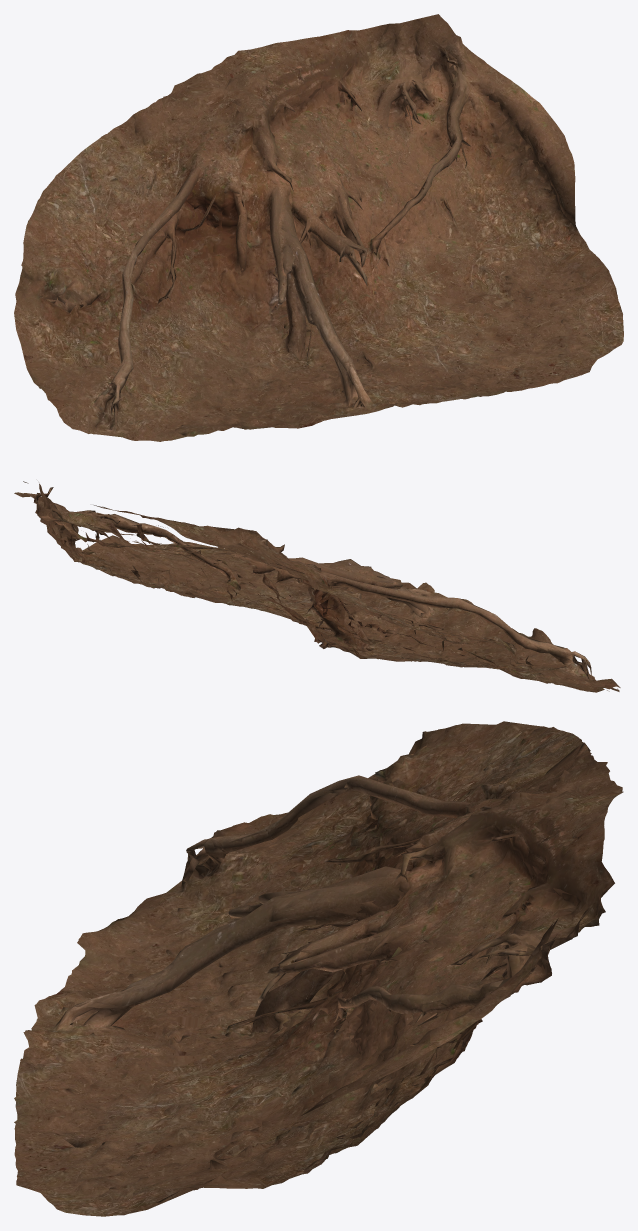
Rendered from root_cluster_01.glb.
The picture shows the model from 3 angles, top to bottom: view 1: azimuth 30°, elevation 25°; view 2: azimuth 150°, elevation 25°; view 3: azimuth 270°, elevation 25°; orthographic projection. The views are drawn at different scales.
Size of the model in its own units: 4.12 by 1.51 by 2.68.
Materials: 1 (1 with a texture image).
